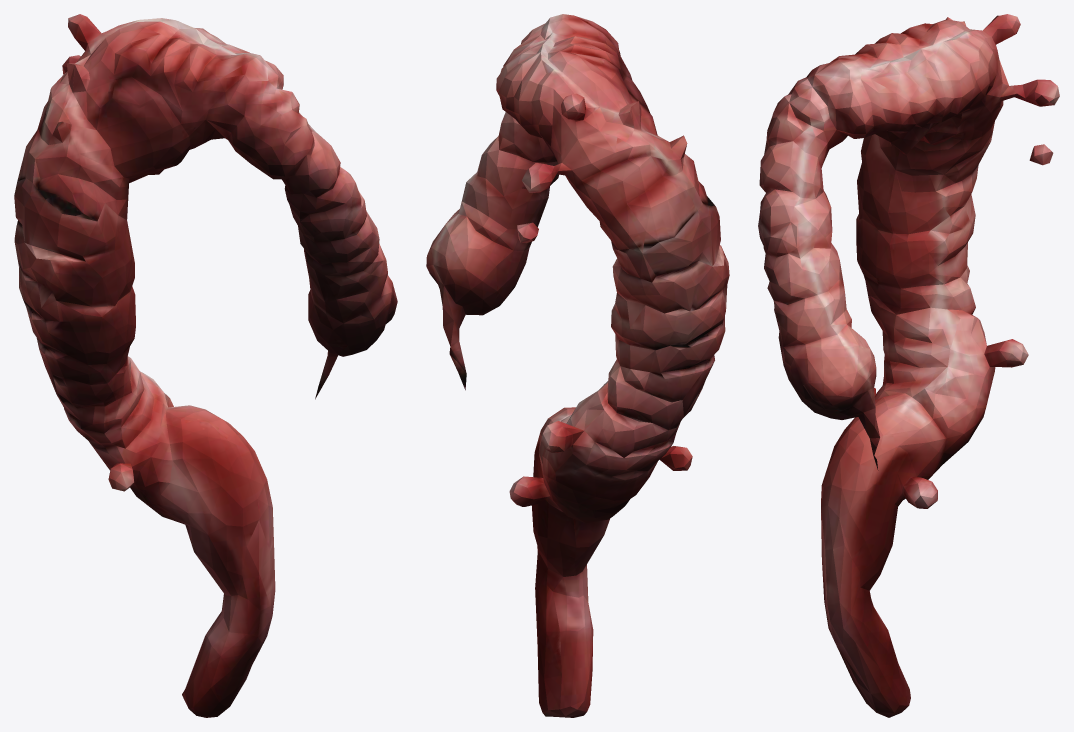
The model's file is DiverQue_es.glb.
3 renders of one model, left to right at view 1: azimuth 30°, elevation 25°; view 2: azimuth 150°, elevation 25°; view 3: azimuth 270°, elevation 25°, orthographic. The views are drawn at different scales.
Parts seen in each view (by area): view 1: Symptoms; view 2: Symptoms; view 3: Symptoms.
Boxes of the visible parts, box(x1,y1,x2,y2) form: Symptoms: box(14, 14, 397, 717); Symptoms: box(426, 14, 729, 717); Symptoms: box(758, 14, 1059, 717).
Bounding box in the file's own units: 0.4969 × 0.9955 × 0.4056.
1 material, 1 textured.
